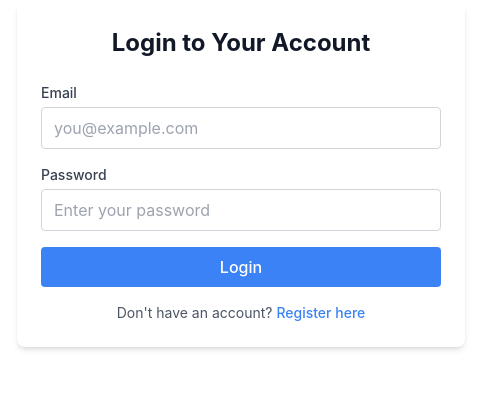
it: LoginForm › validates email format
Type "invalid-email" into the field labelled "Email". click: (241, 128)
box: [41,107,441,149]
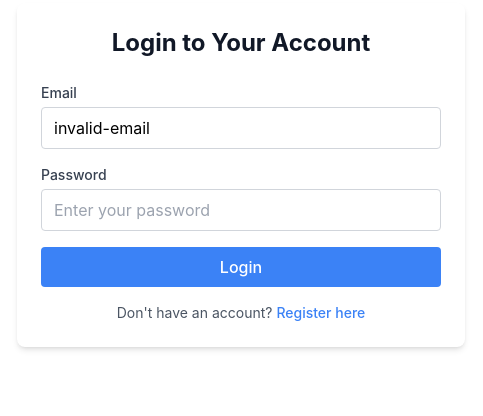
Click the button "Login". click: (241, 267)
box: [41,247,441,287]
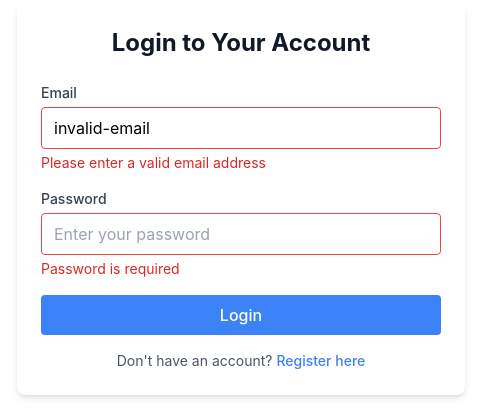
Check: the text "Please enter a valid email address" is shown, box [41,154,266,171]
